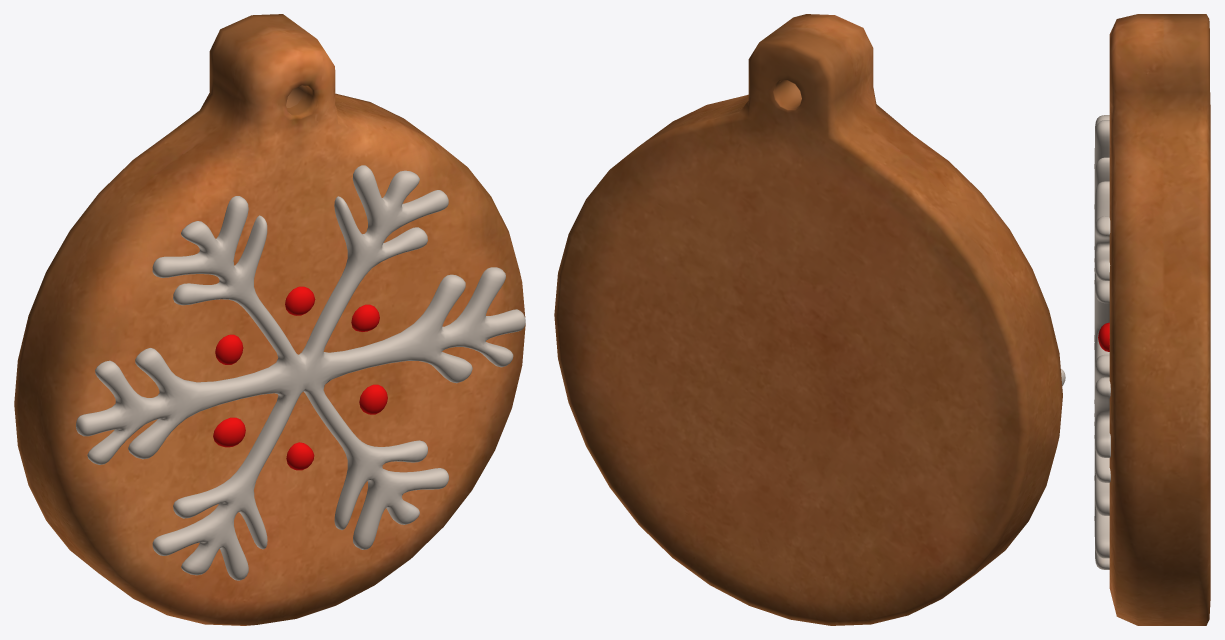
Rendered from ginger-snowflake-2.glb.
3 views of the same model, side by side, from view 1: azimuth 30°, elevation 25°; view 2: azimuth 150°, elevation 25°; view 3: azimuth 270°, elevation 25° (orthographic).
Visible parts, largest first — view 1: Gingerbread snowflake_2; view 2: Gingerbread snowflake_2; view 3: Gingerbread snowflake_2.
Part boxes in pixels (x1,y1,x2,y2): Gingerbread snowflake_2: (14, 14, 525, 625); Gingerbread snowflake_2: (554, 14, 1065, 625); Gingerbread snowflake_2: (1094, 14, 1210, 625).
Size of the model in its own units: 0.0652 by 0.076 by 0.0138.
1 material, 1 textured.
